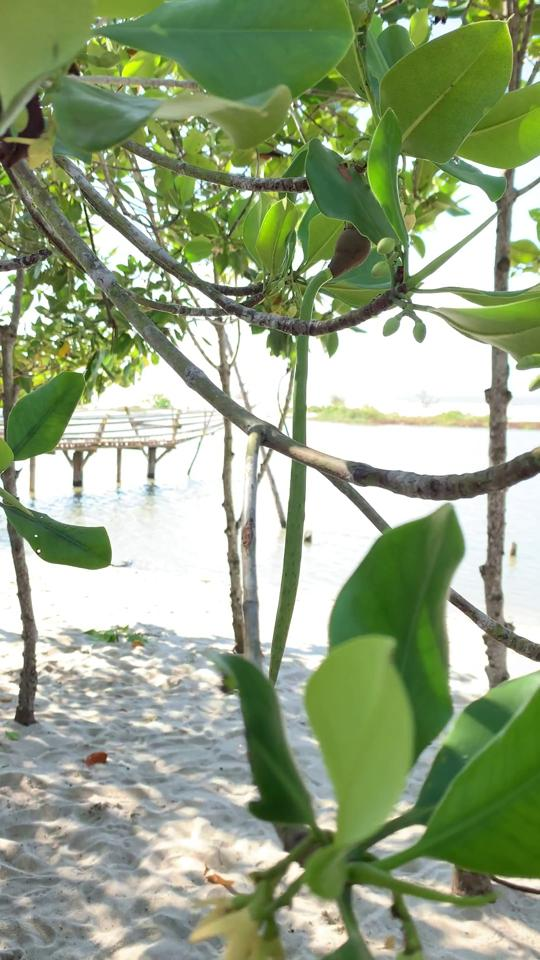setengah matang: (256, 208, 379, 699)
